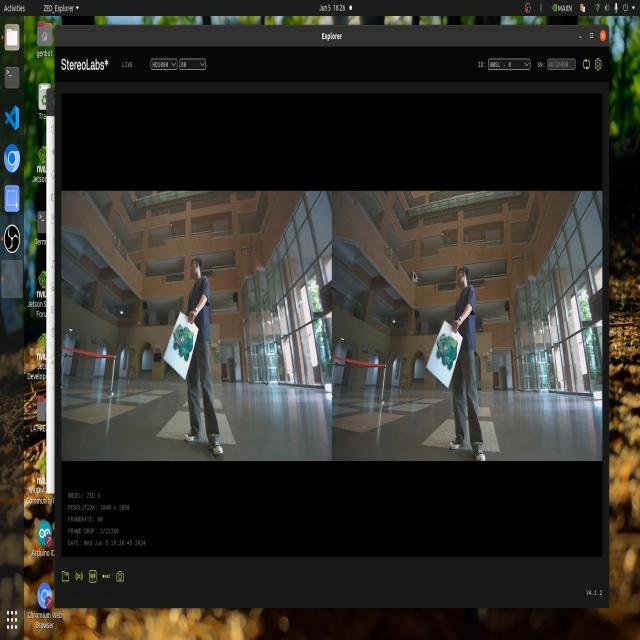green: (434, 326, 466, 374), (176, 320, 192, 361)
